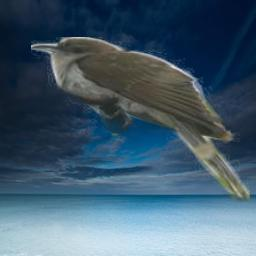Cuckoo: (31, 37, 250, 202)
